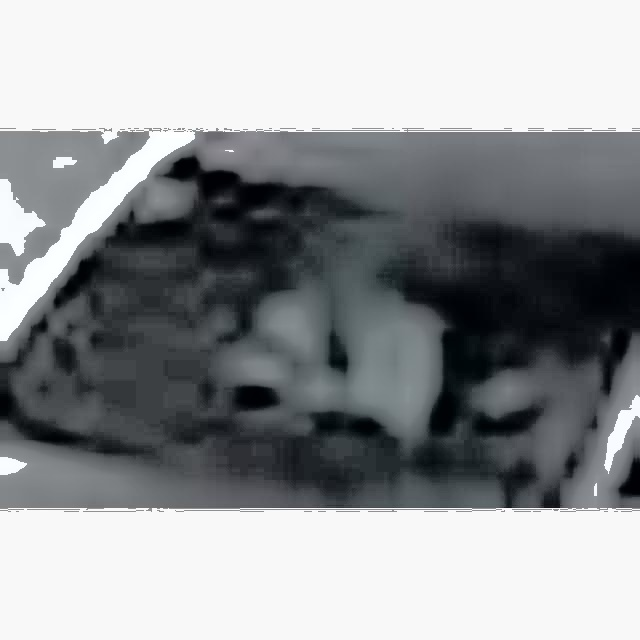pakai: (226, 232, 452, 421)
